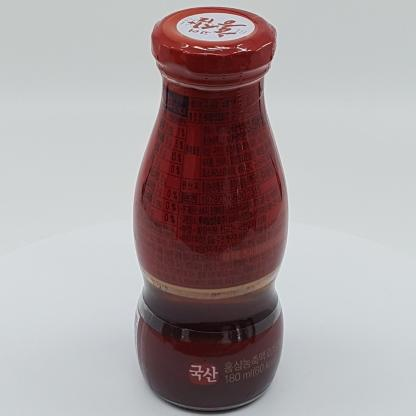------180ML: (133, 7, 289, 411)
